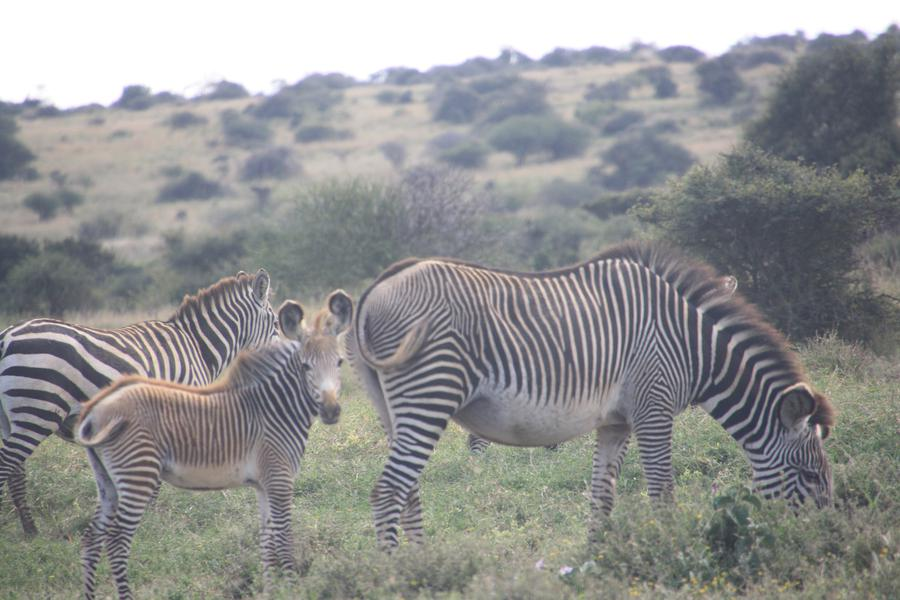zebra_grevys: (365, 253, 677, 421), (80, 379, 296, 481)
